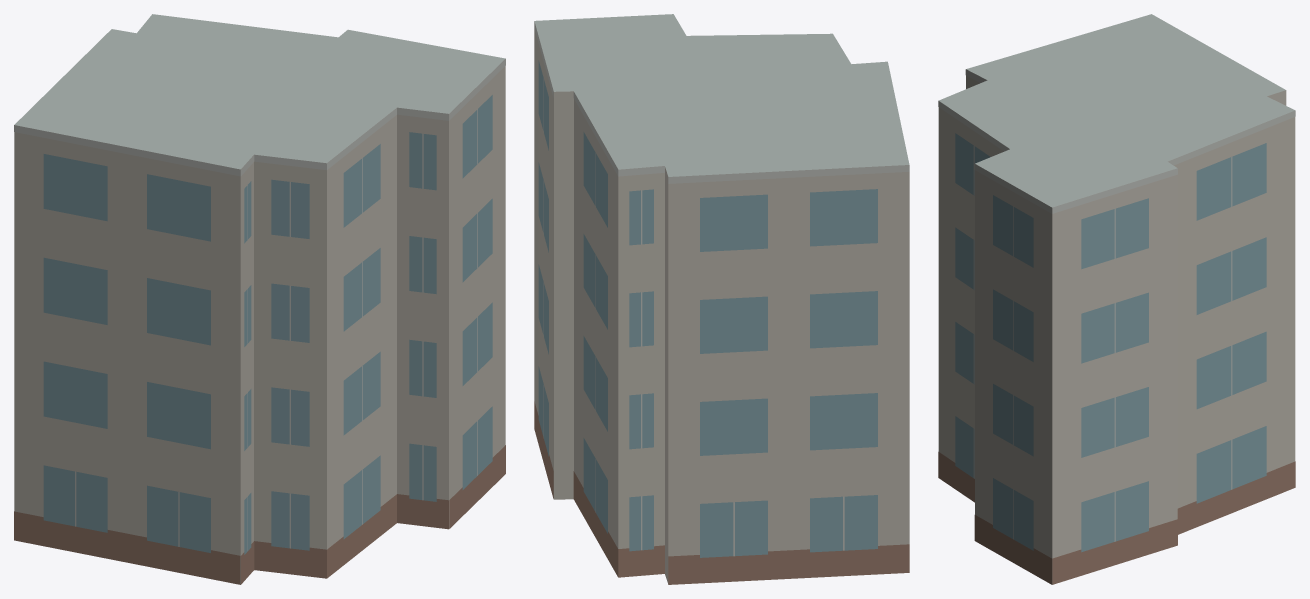
The model's file is survey-upis-32677385.glb.
3 renders of one model, left to right at view 1: azimuth 30°, elevation 25°; view 2: azimuth 150°, elevation 25°; view 3: azimuth 270°, elevation 25°, orthographic. The views are drawn at different scales.
Parts seen in each view (by area): view 1: survey-upis-32677385.tmp; view 2: survey-upis-32677385.tmp; view 3: survey-upis-32677385.tmp.
Part boxes in pixels (x1=…): survey-upis-32677385.tmp: x1=14, y1=14, x2=505, y2=584; survey-upis-32677385.tmp: x1=534, y1=14, x2=909, y2=584; survey-upis-32677385.tmp: x1=938, y1=14, x2=1295, y2=584.
Bounding box in the file's own units: 15.92 × 14.46 × 12.41.
